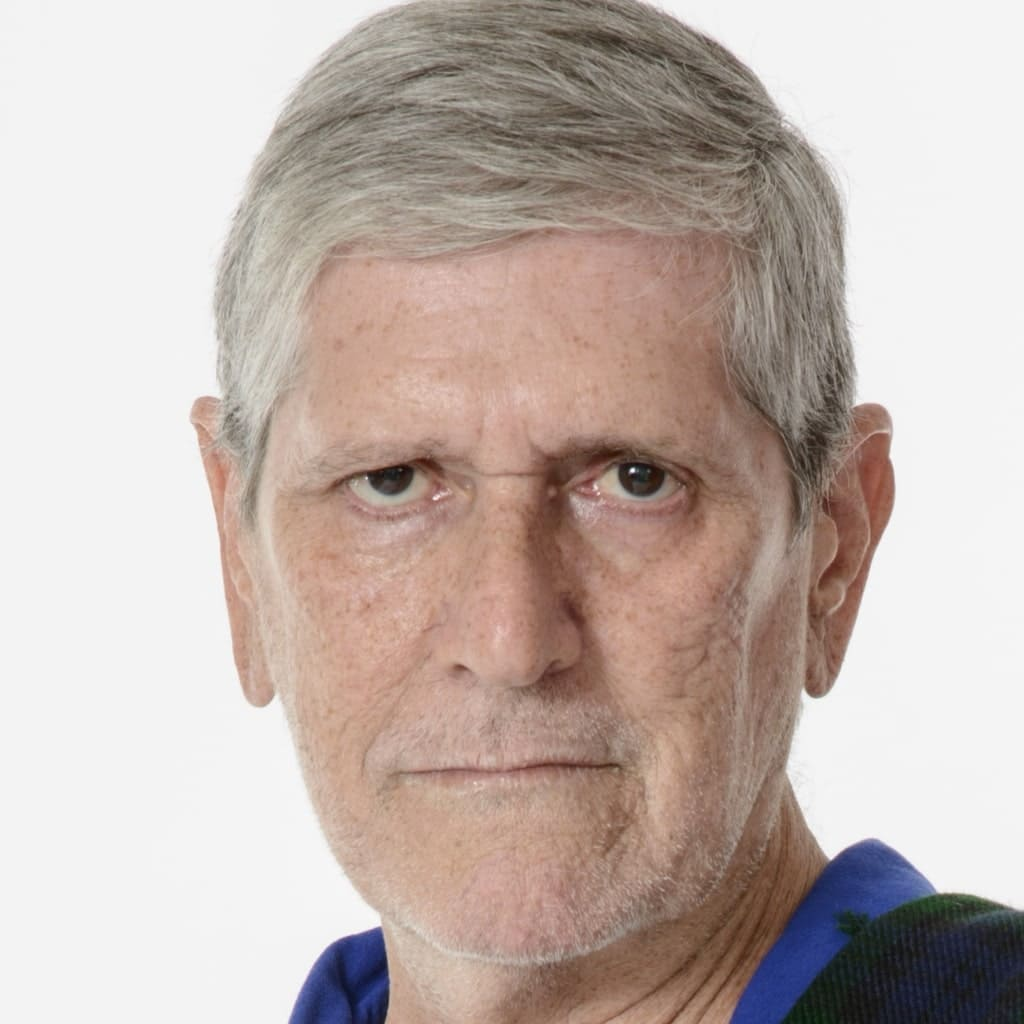without_mask: (268, 334, 780, 883)
